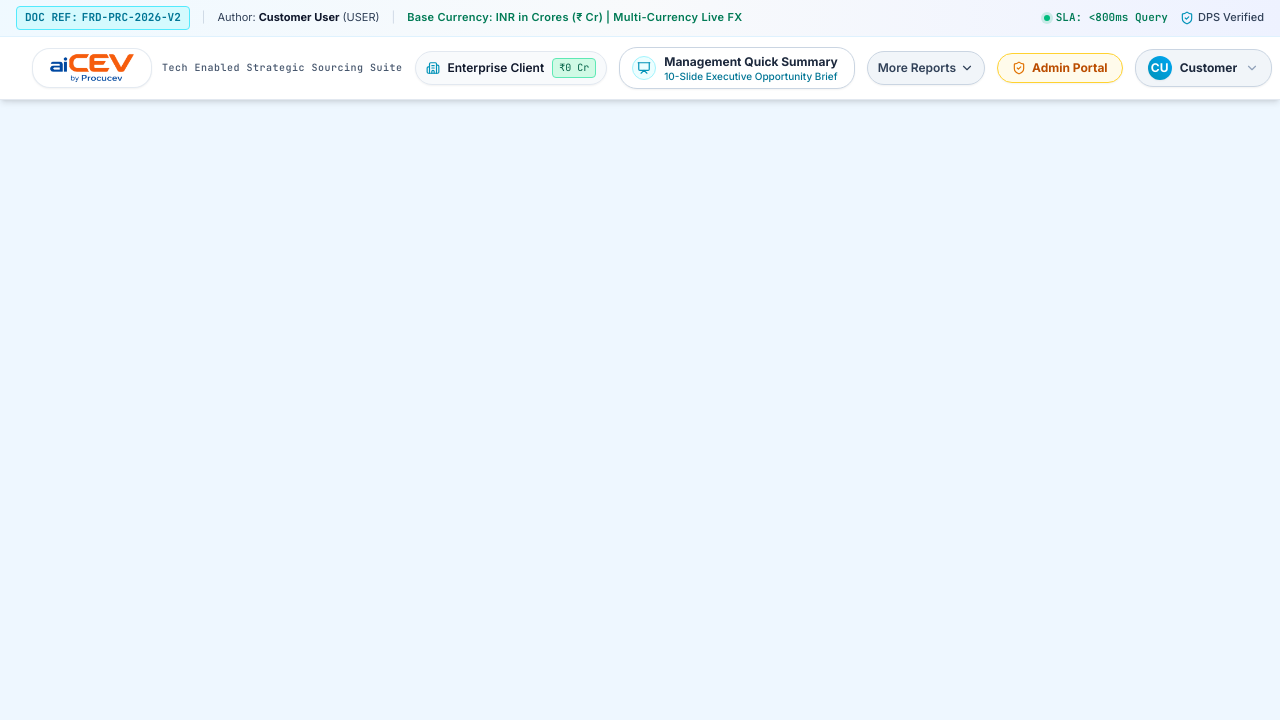
Test: Header Component › hides subscription tier demo switcher from customer users (role: USER)
The width and height of the screenshot is (1280, 720).
Click the button with test id "user-profile-menu-button".
click(1203, 68)  # box x1=1135 y1=49 x2=1272 y2=87
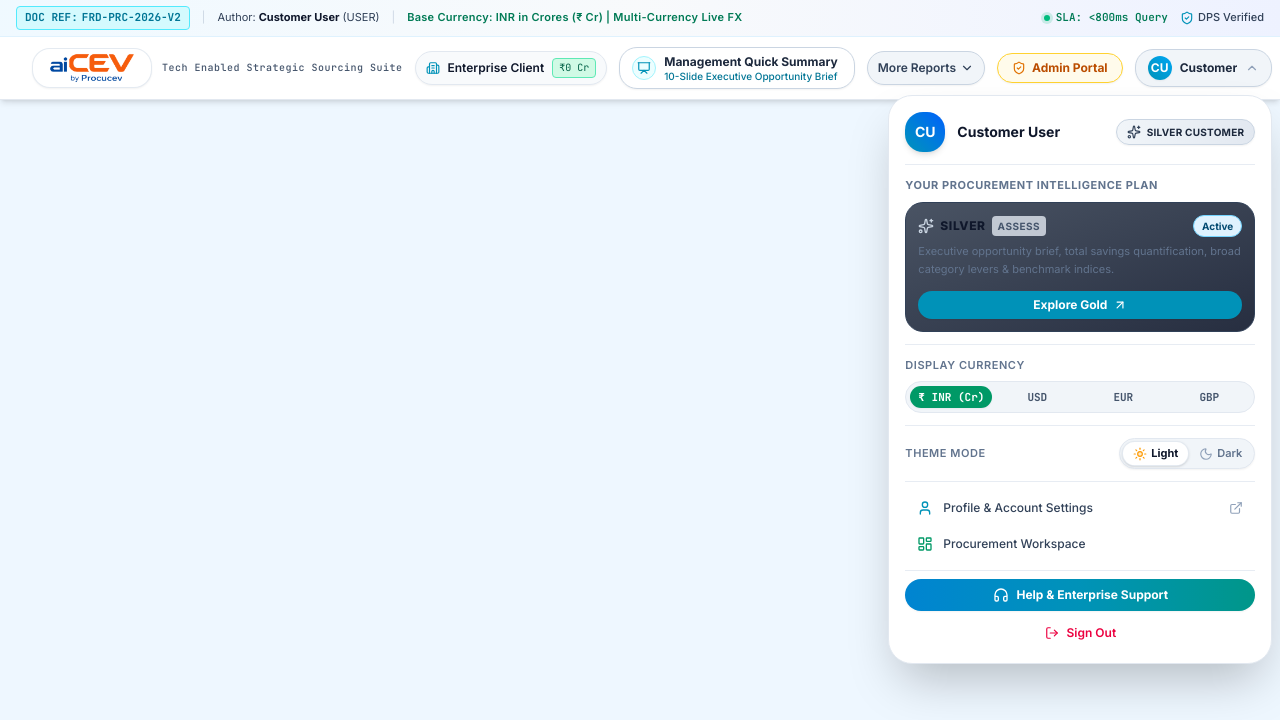
Expected: the element with test id "subscription-tier-badge" is shown, x1=1116 y1=119 x2=1255 y2=145
